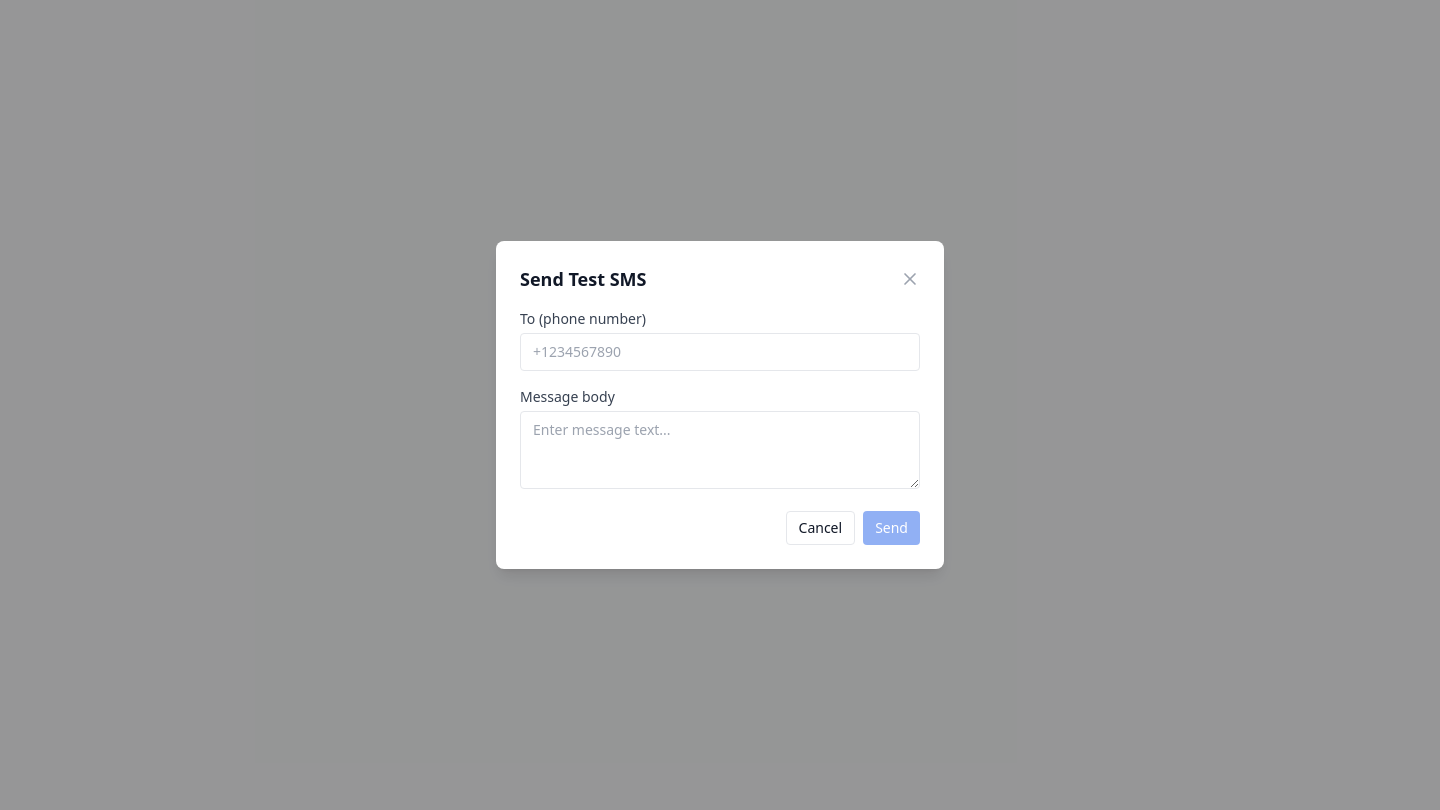
SMSSendTester › shows error message when adminSendSMS rejects
In the field labelled "To (phone number)": (720, 352) [520, 333, 920, 371], type "+15551234567"
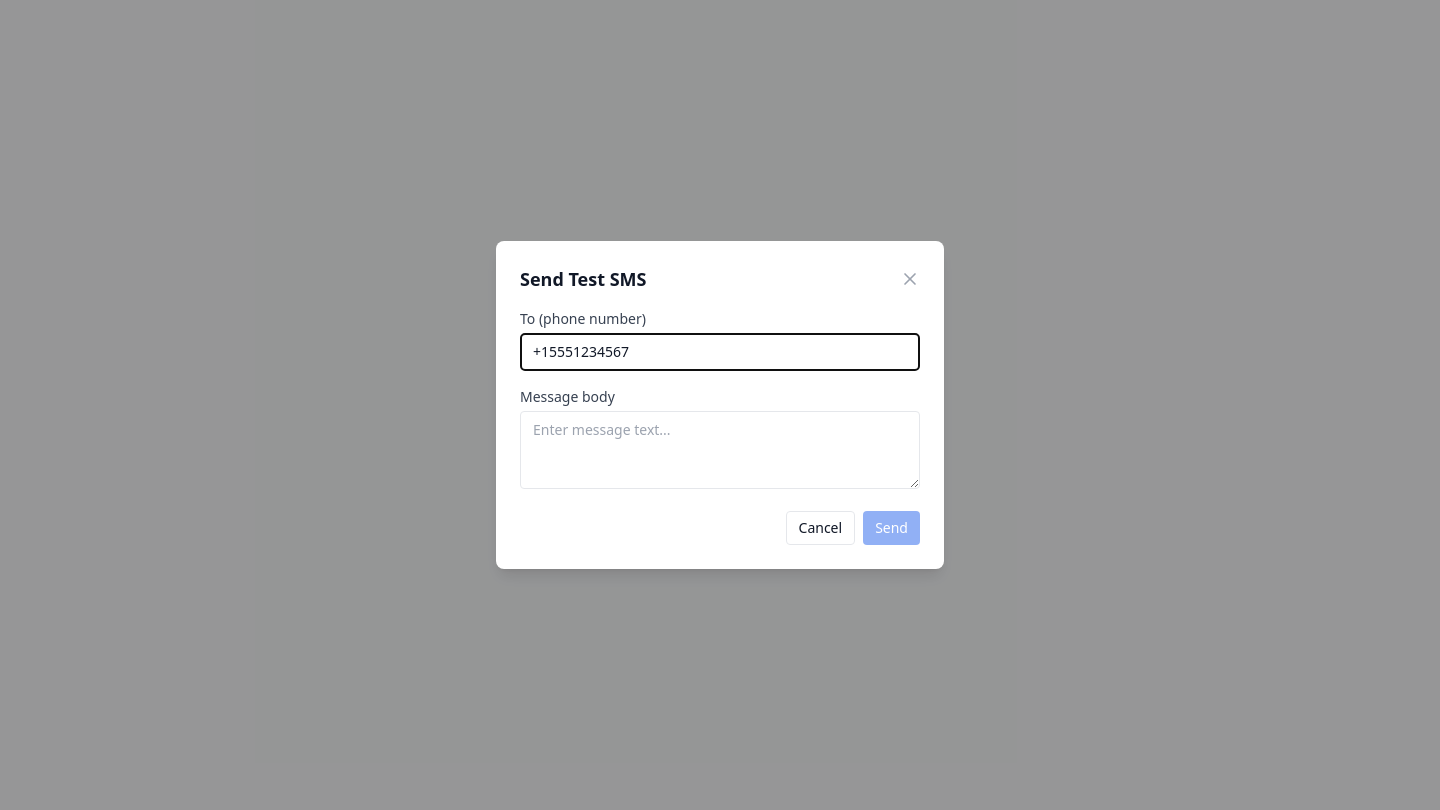
In the text box labelled "Message body": (720, 450) [520, 411, 920, 489], type "Hello"
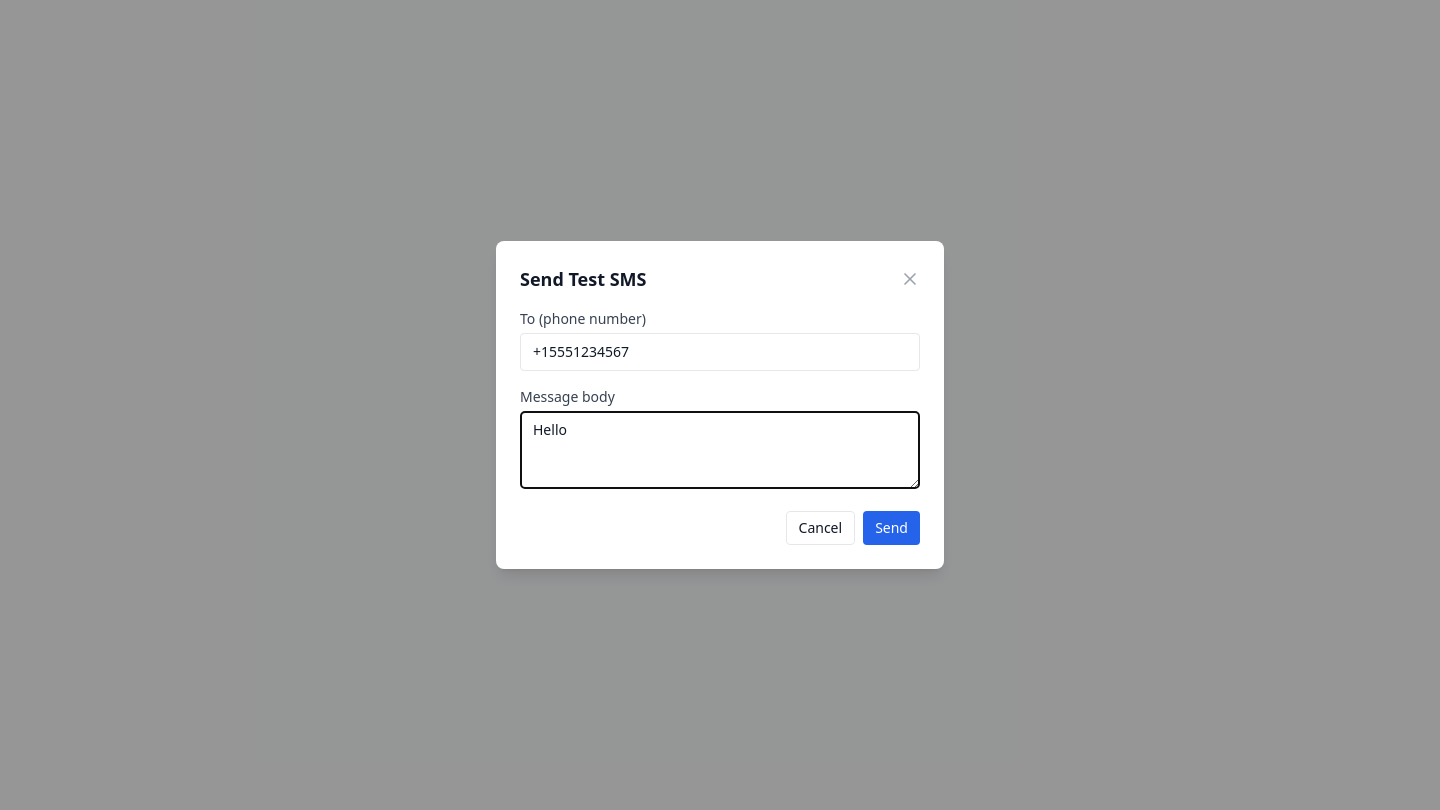
Click the button "Send": (892, 528) [863, 511, 920, 545]
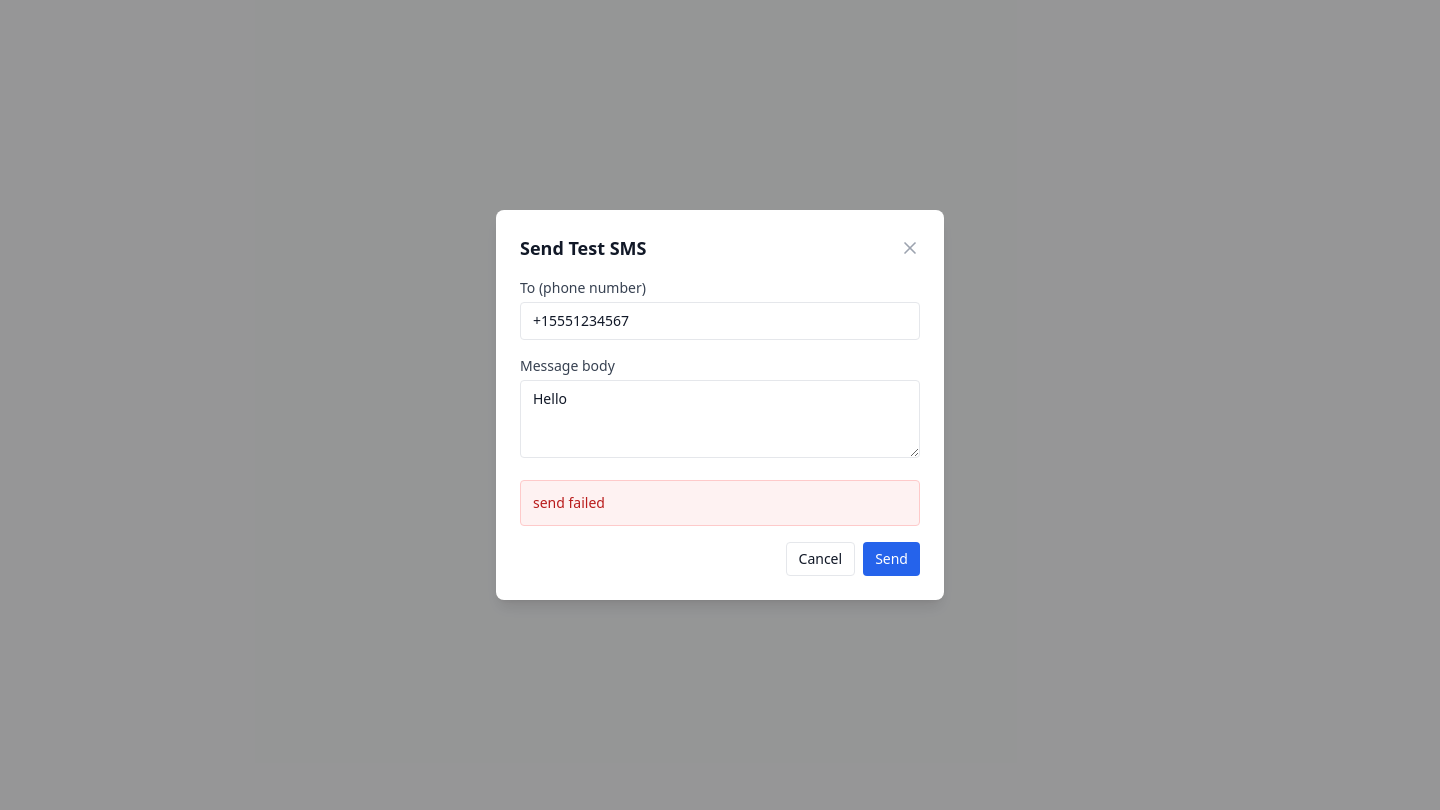
Check: the text "send failed" is shown, box [520, 480, 920, 526]
Check: the text with test id "send-error" reads "send failed", box [533, 493, 605, 512]
